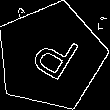P_SW: (21, 25, 81, 88)
